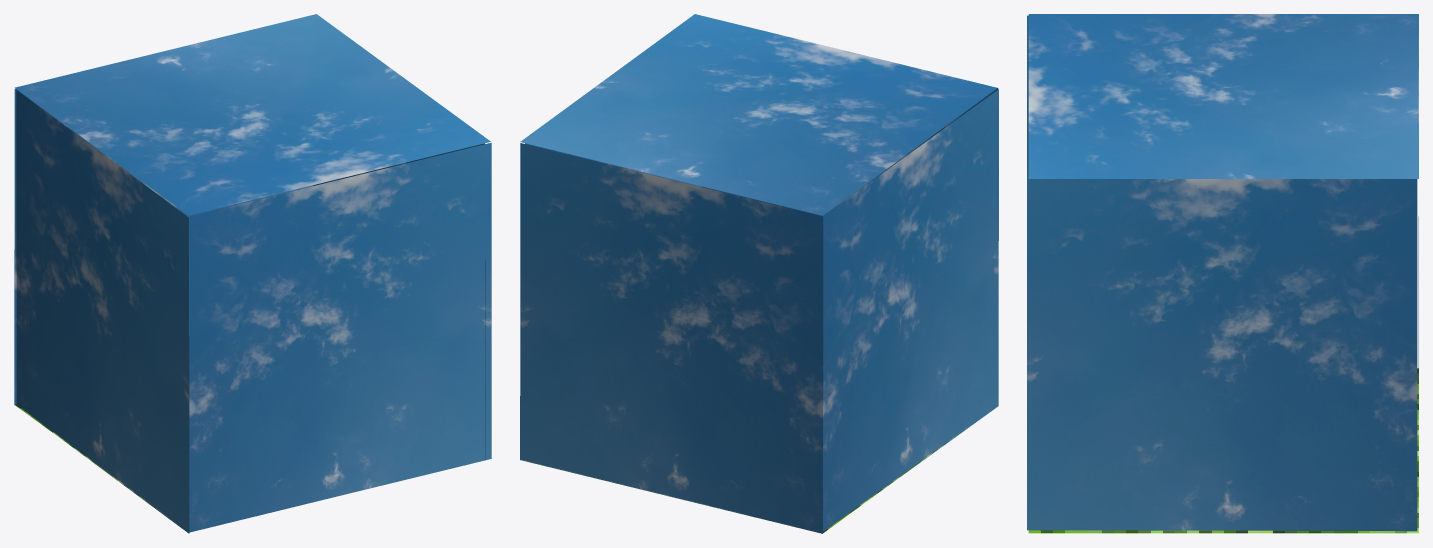
Rendered from tank5.gltf.
3 views of the same model, side by side, from view 1: azimuth 30°, elevation 25°; view 2: azimuth 150°, elevation 25°; view 3: azimuth 270°, elevation 25° (orthographic). The views are drawn at different scales.
Parts seen in each view (by area): view 1: Plane.002, Plane.003, Plane.005, Plane.001; view 2: Plane.001, Plane.003, Plane.005; view 3: Plane.004, Plane.005, Plane.
Part boxes in pixels (x1,y1,x2,y2): Plane.002: (189, 142, 491, 532); Plane.003: (16, 89, 189, 533); Plane.005: (14, 14, 490, 215); Plane.001: (14, 89, 312, 405); Plane.001: (520, 143, 823, 533); Plane.003: (823, 89, 998, 531); Plane.005: (520, 14, 997, 215); Plane.004: (1027, 176, 1417, 531); Plane.005: (1028, 14, 1418, 178); Plane: (1028, 368, 1418, 533).
Bounding box in the file's own units: 122 × 123 × 123.
5 materials, 5 textured.
